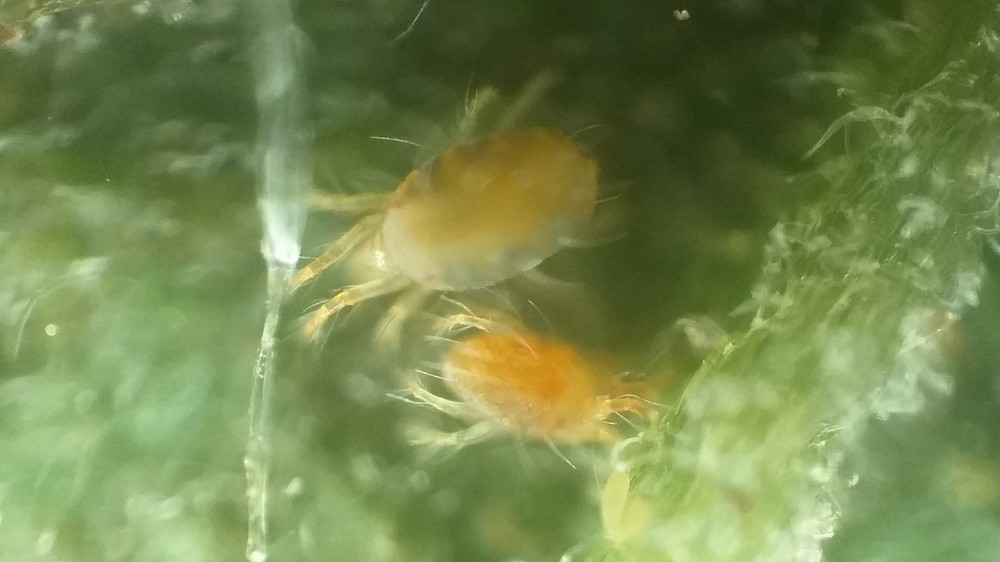Aracnido Rojo: (262, 72, 706, 342), (422, 311, 741, 472)
